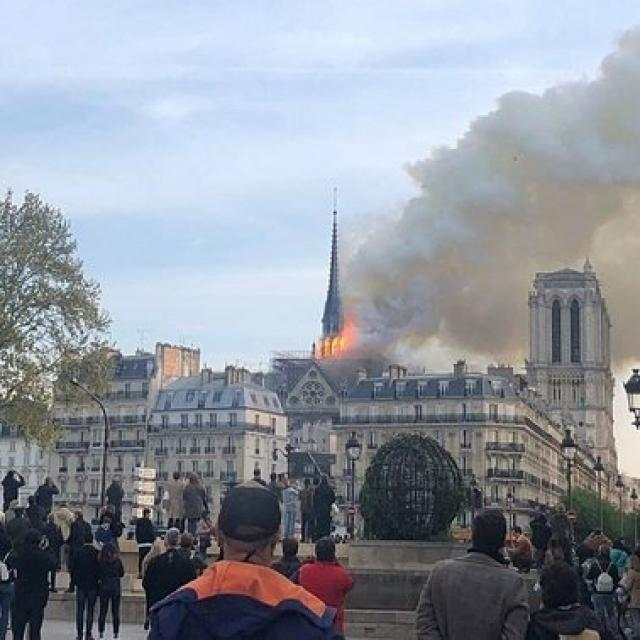Fire: (318, 316, 356, 360)
Smoke: (341, 82, 640, 364), (598, 18, 640, 134)
